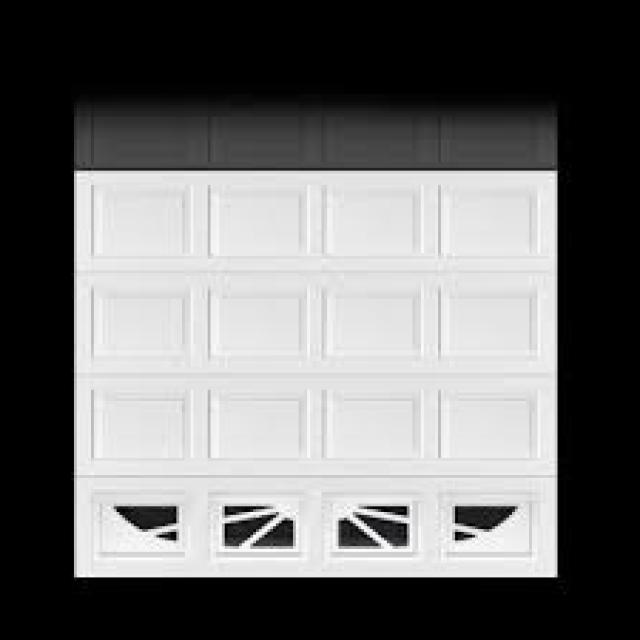door: (72, 168, 559, 580)
